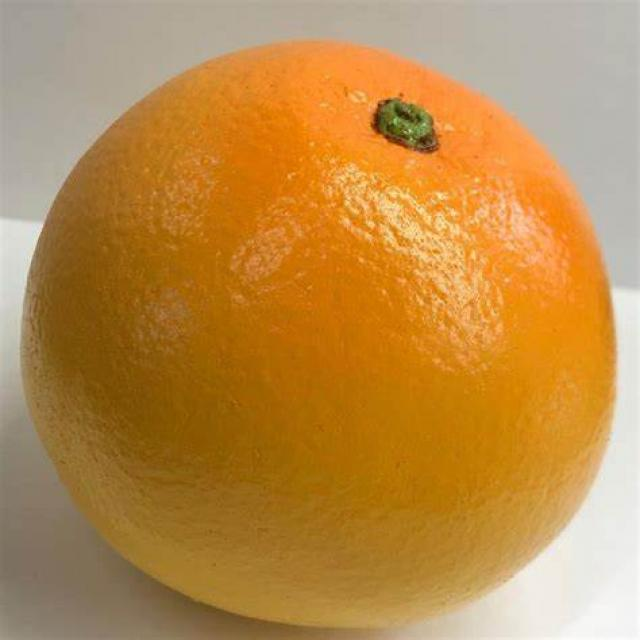Orange: (30, 39, 616, 628)
